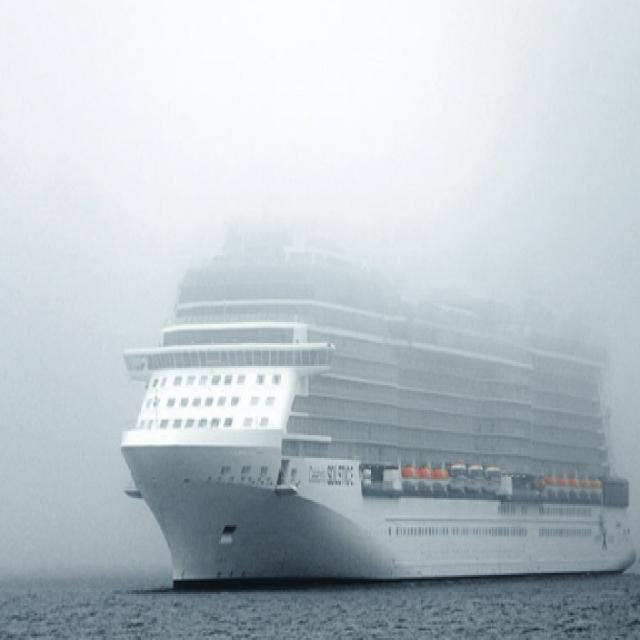passenger ship: (118, 206, 637, 596)
